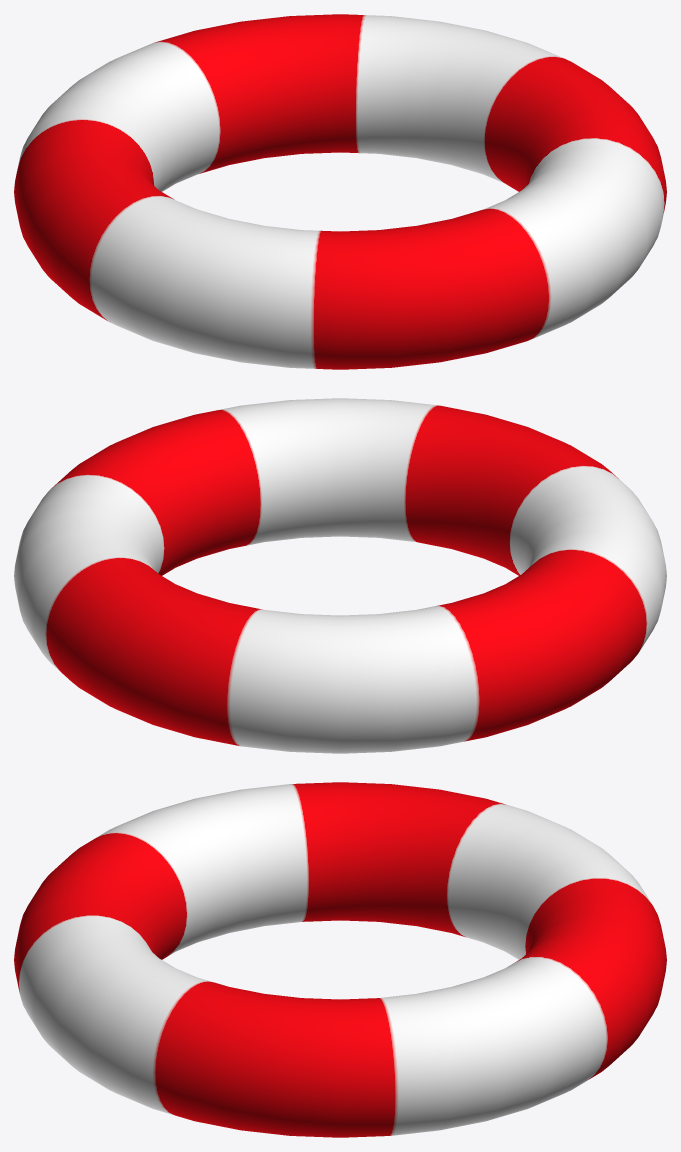
File: Ring.fbx
The picture shows the model from 3 angles, top to bottom: view 1: azimuth 30°, elevation 25°; view 2: azimuth 150°, elevation 25°; view 3: azimuth 270°, elevation 25°; orthographic projection.
Visible parts, largest first — view 1: Ring; view 2: Ring; view 3: Ring.
Boxes of the visible parts, box(x1,y1,x2,y2) form: Ring: box(14, 14, 666, 369); Ring: box(14, 398, 666, 753); Ring: box(14, 782, 666, 1137).
Bounding box in the file's own units: 12.7 × 2.7 × 12.7.
1 material, 1 textured.
